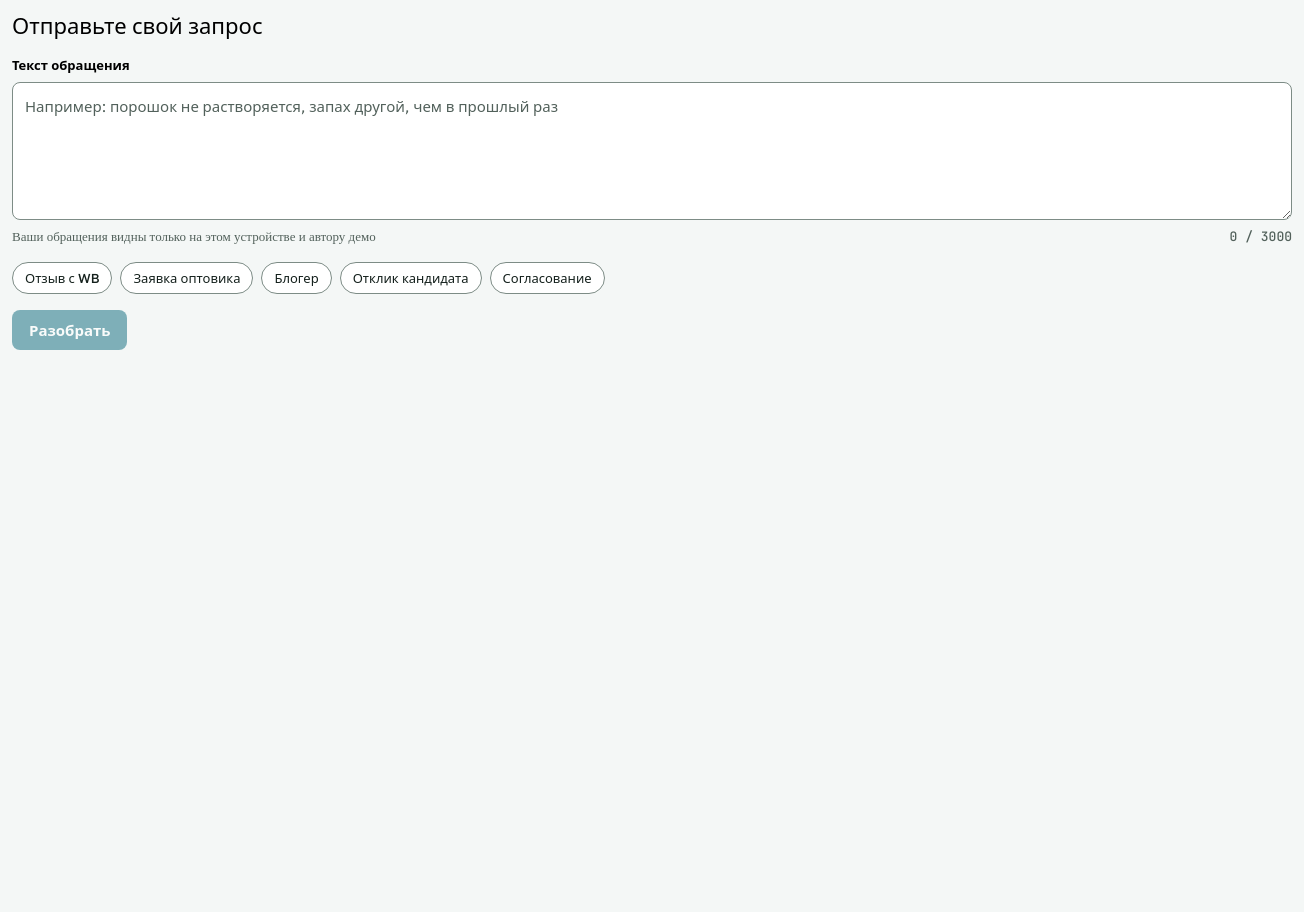
Test: Triage › конец доступа посреди сессии показывает текст и Telegram, как экран доступа
What coordinates should you click on to do the following:
click the button "Отзыв с WB"
I would click on:
 (62, 278)
Its box is x1=12 y1=262 x2=112 y2=294.
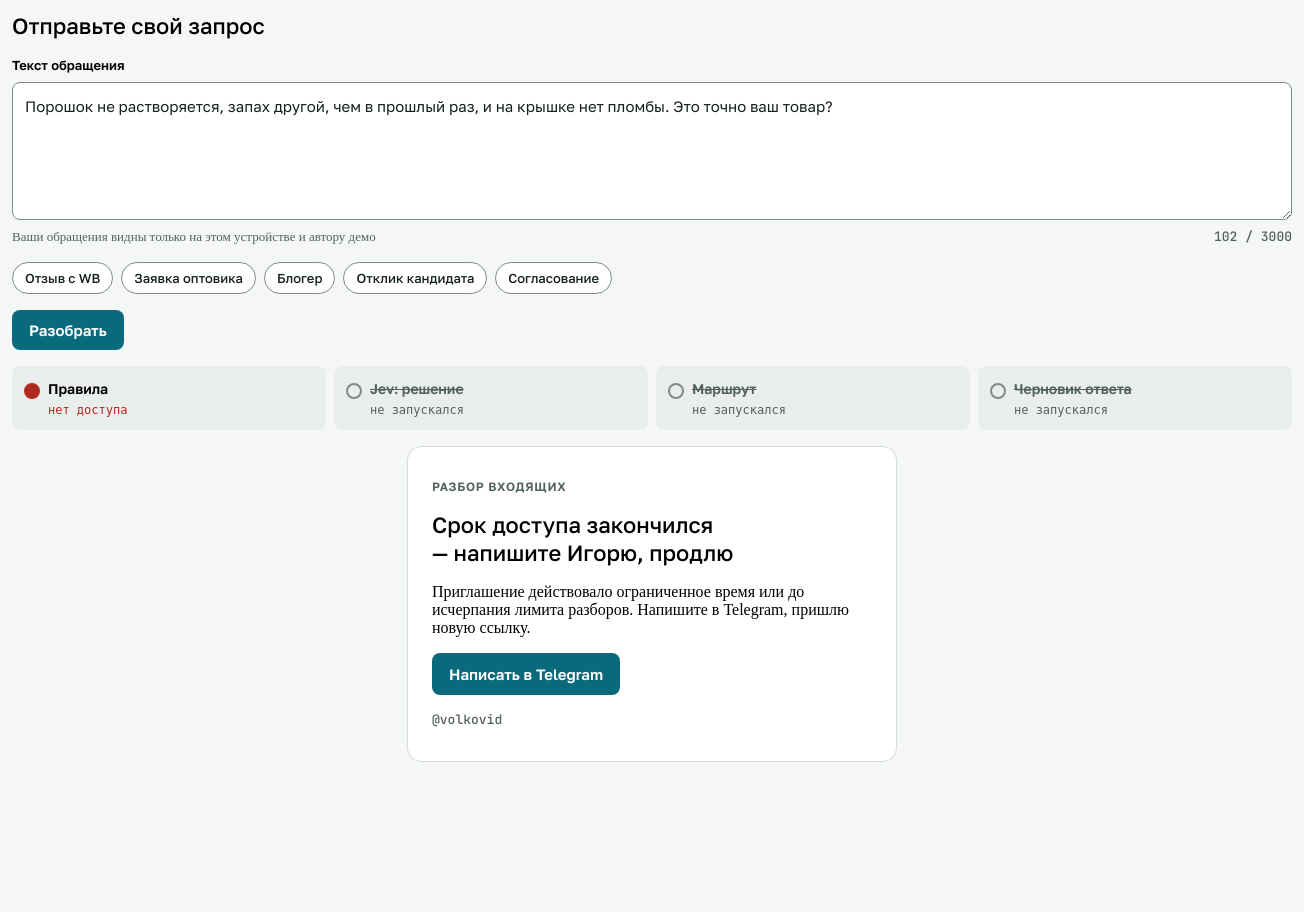
expect the heading "Срок доступа закончился — напишите Игорю, продлю" is shown: met, box x1=432 y1=511 x2=733 y2=566
